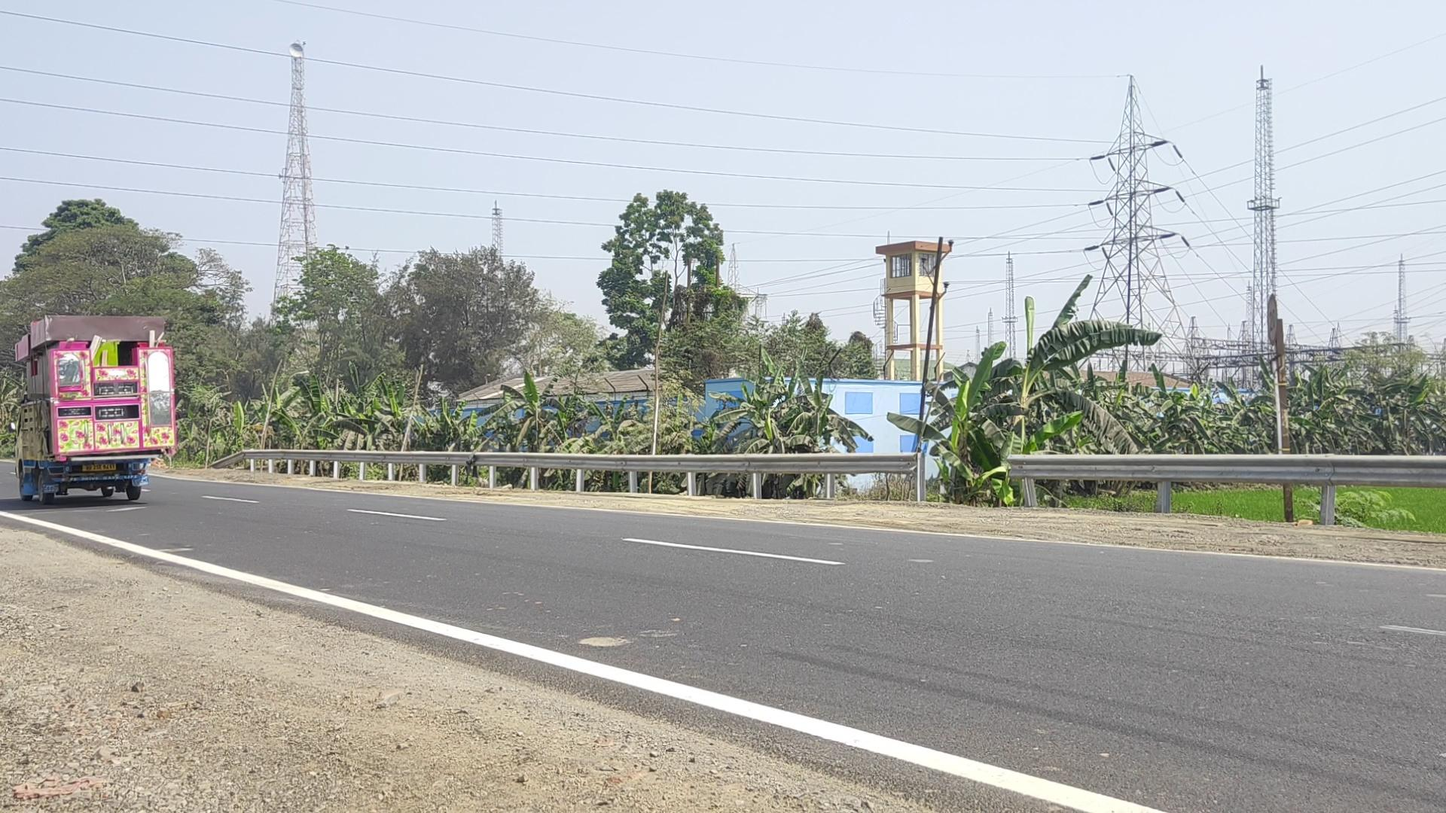van: (10, 315, 176, 504)
